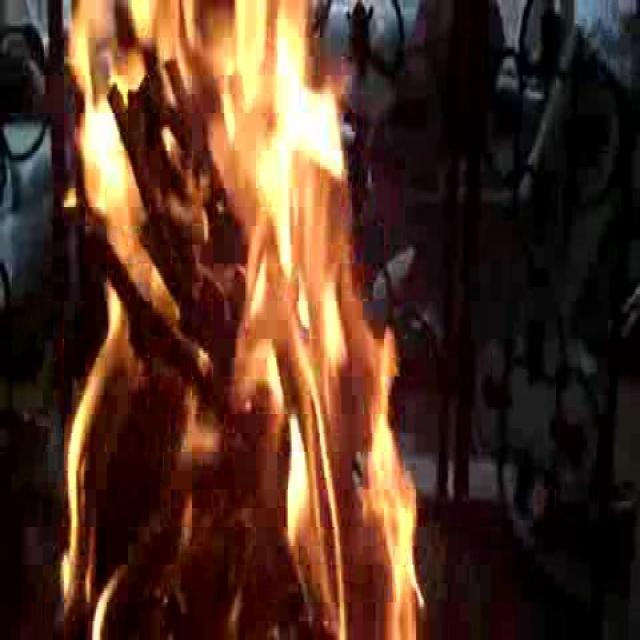Fire: (58, 0, 406, 640)
